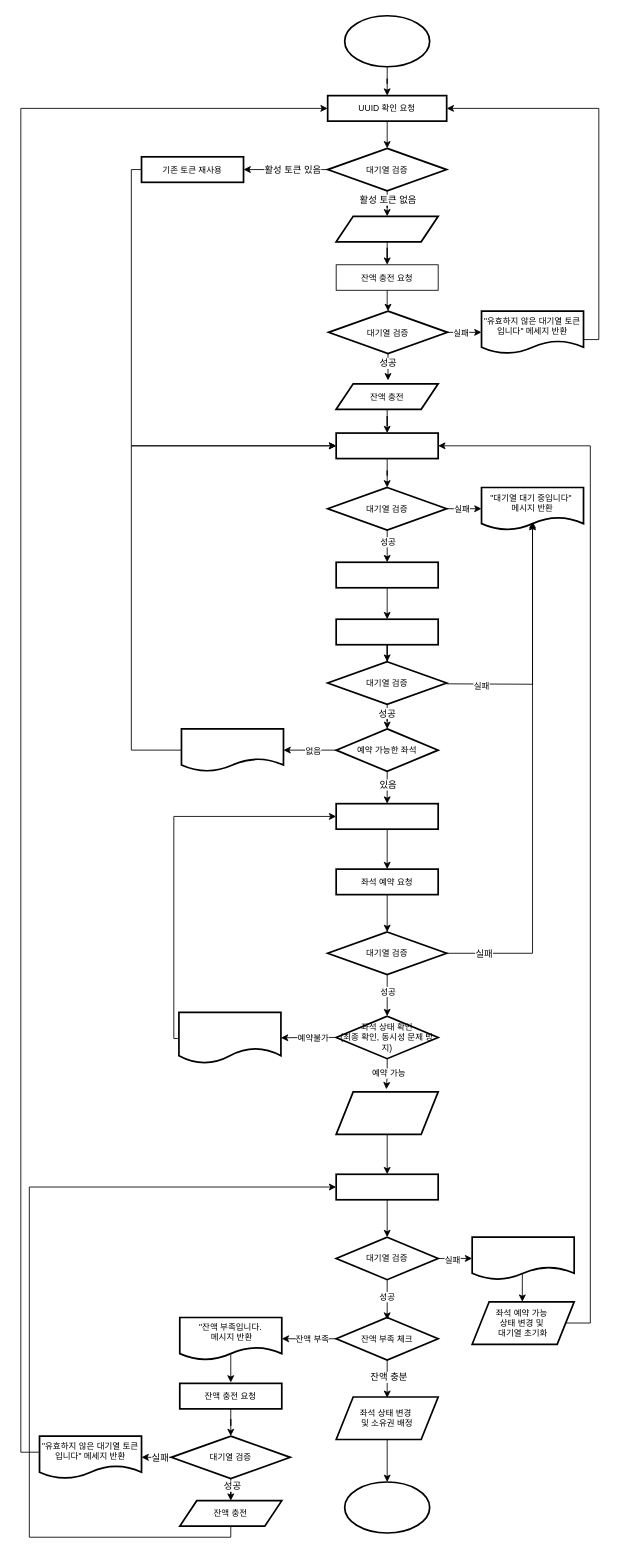
Some shapes in this 621 by 1559 pixel diagram are drawn without their labels. The centre of each missing label's shape, as x and y in pixels:
"대기열 토큰이 만료되었습니다" 메시지 반환: (x=523, y=1258)
"예약 가능한 좌석이 없습니다" 메세지 반환: (x=232, y=750)
"이미 예약된 좌석입니다. 다시 시도하세요." 메세지 반환: (x=229, y=1037)
결제 요청: (x=387, y=1186)
날짜 선택: (x=387, y=574)
새로운 토큰 생성: (x=387, y=228)
시작: (x=386, y=40)
예약 가능 좌석 조회: (x=387, y=631)
예약 가능한 날짜 조회: (x=387, y=445)
종료: (x=386, y=1507)
좌석 선택: (x=387, y=816)
좌석 예약 상태 변경 및 토큰 만료 시간 세팅: (x=387, y=1113)
